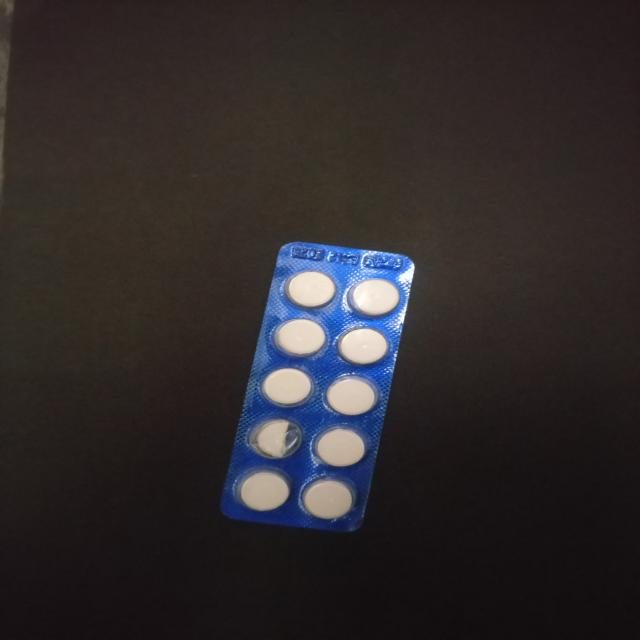defect: (244, 414, 305, 460)
